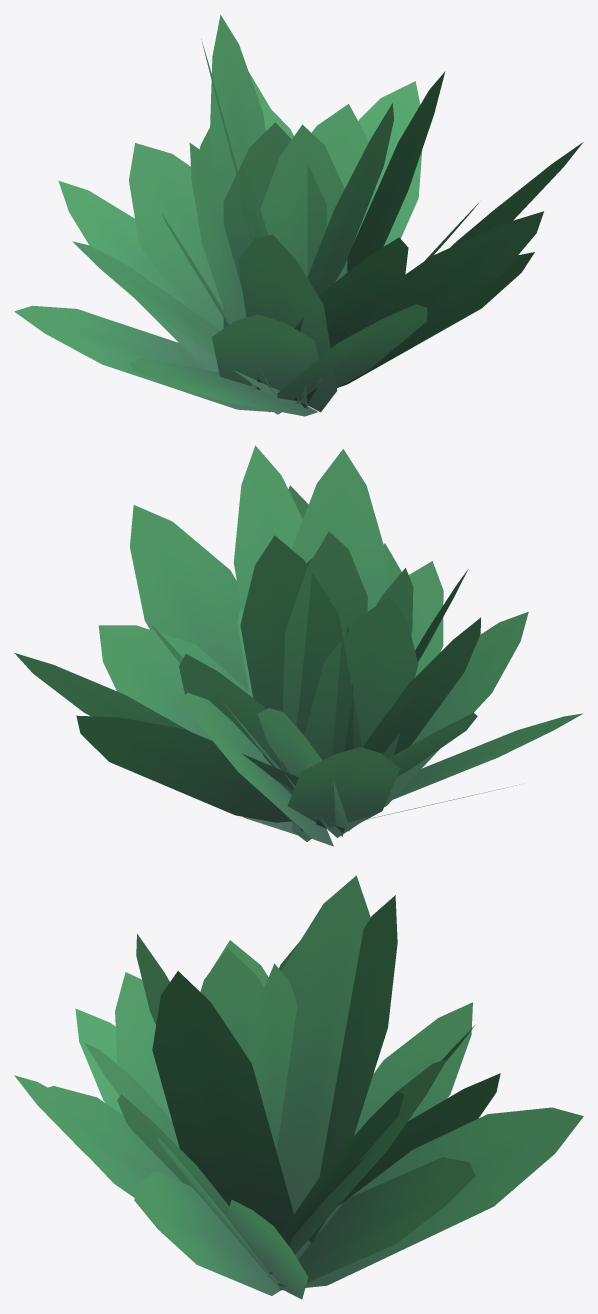
The model's file is plant01.fbx.
3 views of the same model, one above another, from view 1: azimuth 30°, elevation 25°; view 2: azimuth 150°, elevation 25°; view 3: azimuth 270°, elevation 25° (orthographic). The views are drawn at different scales.
Parts seen in each view (by area): view 1: pPlane129; view 2: pPlane129; view 3: pPlane129.
Part boxes in pixels (x1,y1,x2,y2): pPlane129: (14,15,583,416); pPlane129: (14,445,583,846); pPlane129: (14,875,583,1299).
Size of the model in its own units: 106 by 74.68 by 101.
